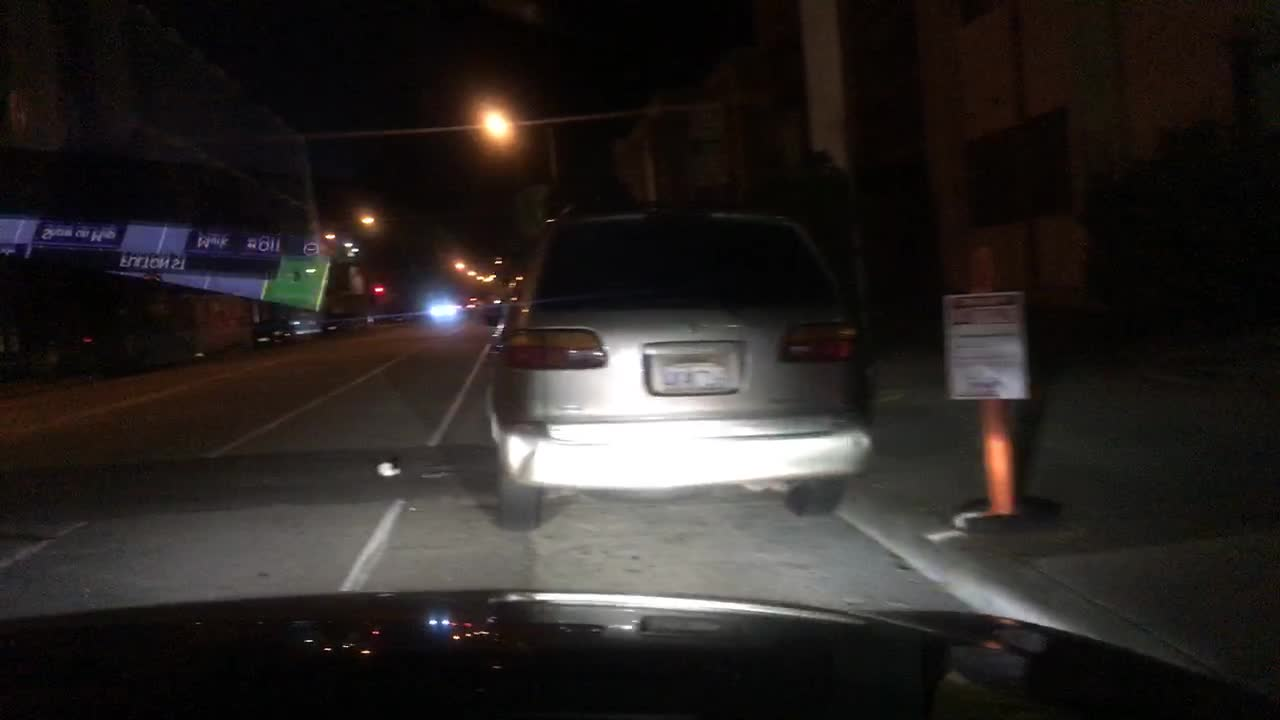car: (484, 199, 876, 529), (249, 313, 322, 348), (329, 313, 376, 330), (484, 291, 506, 327), (428, 304, 462, 318), (382, 308, 409, 322)
traffic light: (371, 282, 382, 294)
traffic sign: (939, 291, 1023, 398), (333, 239, 359, 265)
